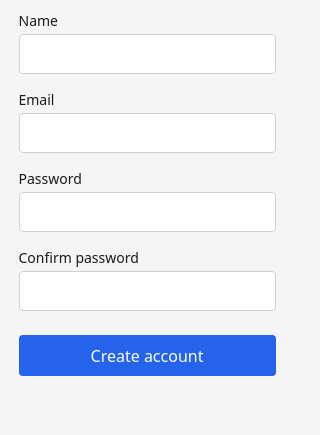
Test: RegisterForm › maps a 400 INVALID_INPUT response onto field-level errors
The width and height of the screenshot is (320, 435).
Type "Ada Lovelace" into the field labelled "Name". click: coordinates (147, 54)
box: [18, 34, 276, 74]
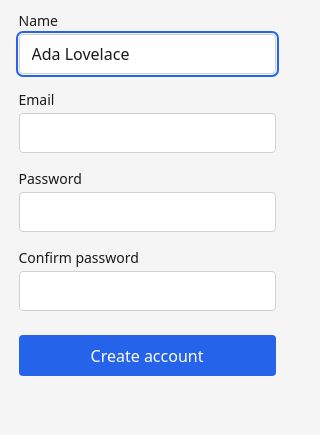
Type "ada@example.com" into the field labelled "Email". click: coordinates (147, 133)
box: [18, 113, 276, 153]
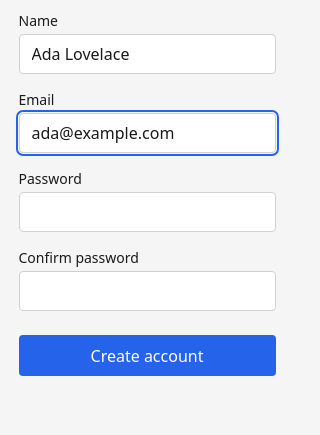
Type "super-secret" into the password field labelled "Password". click: coordinates (147, 212)
box: [18, 192, 276, 232]
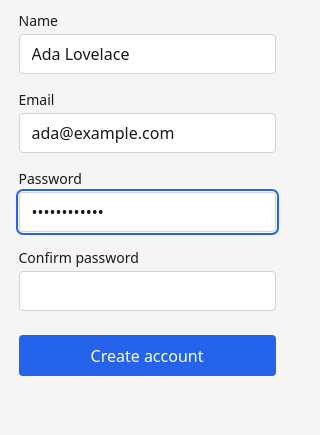
Type "super-secret" into the password field labelled "Confirm password". click: coordinates (147, 291)
box: [18, 271, 276, 311]
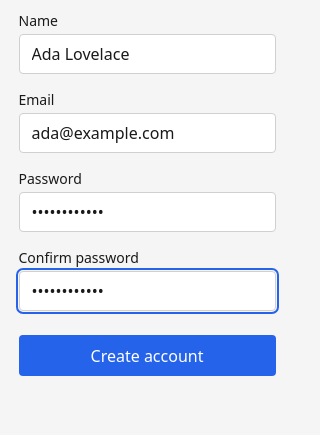
Click the button "Create account". click: coordinates (147, 356)
box: [18, 335, 276, 376]
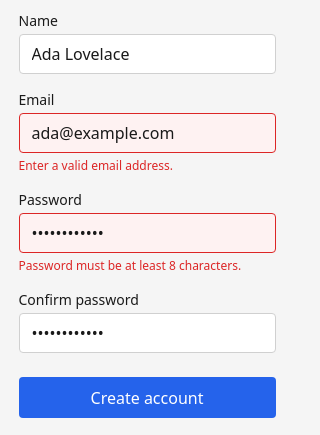
Check: the text "Enter a valid email address." is shown, box [18, 157, 173, 174]
Check: the text "Password must be at least 8 characters." is shown, box [18, 257, 276, 274]
